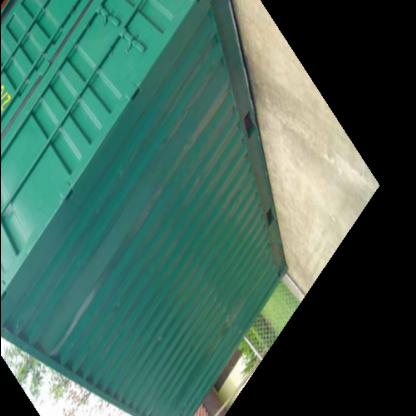Damage: (138, 68, 234, 209), (48, 282, 118, 356), (207, 301, 244, 348)
